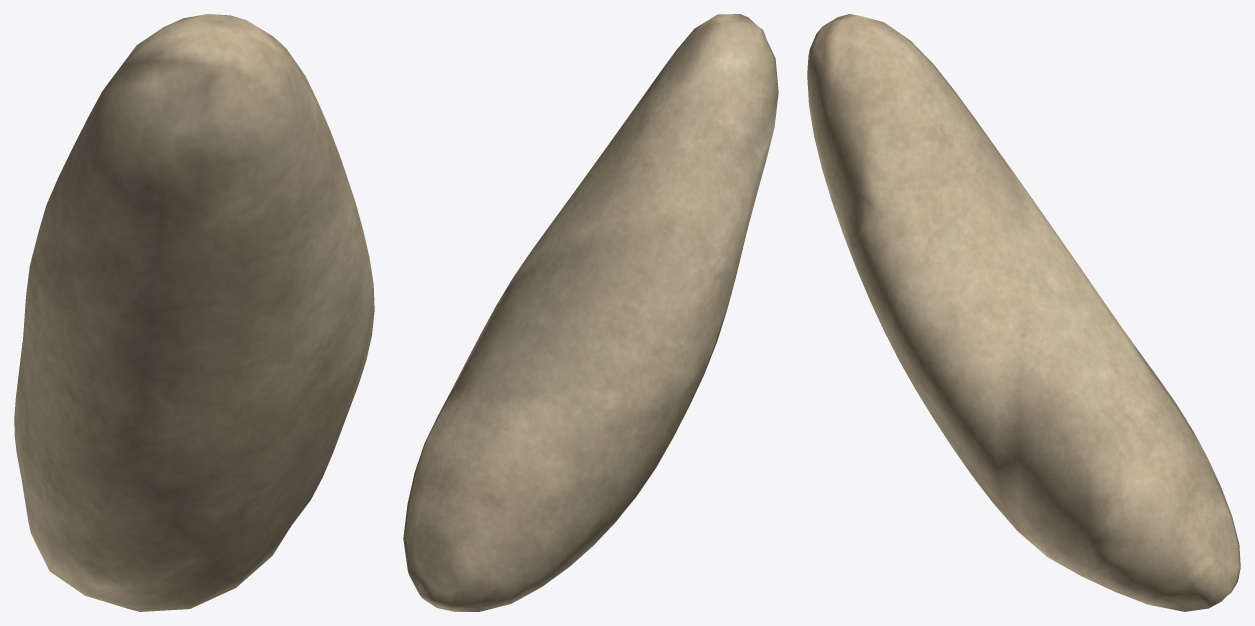
Rendered from Lower_Canine1.glb.
3 renders of one model, left to right at view 1: azimuth 30°, elevation 25°; view 2: azimuth 150°, elevation 25°; view 3: azimuth 270°, elevation 25°, orthographic. The views are drawn at different scales.
Visible parts, largest first — view 1: Group27951_Mesh.041; view 2: Group27951_Mesh.041; view 3: Group27951_Mesh.041.
Part boxes in pixels (box(x1,y1,x2,y2)): Group27951_Mesh.041: box(14, 14, 374, 611); Group27951_Mesh.041: box(403, 14, 778, 611); Group27951_Mesh.041: box(807, 14, 1240, 611).
Size of the model in its own units: 0.0089 by 0.0183 by 0.0136.
1 material, 1 textured.
